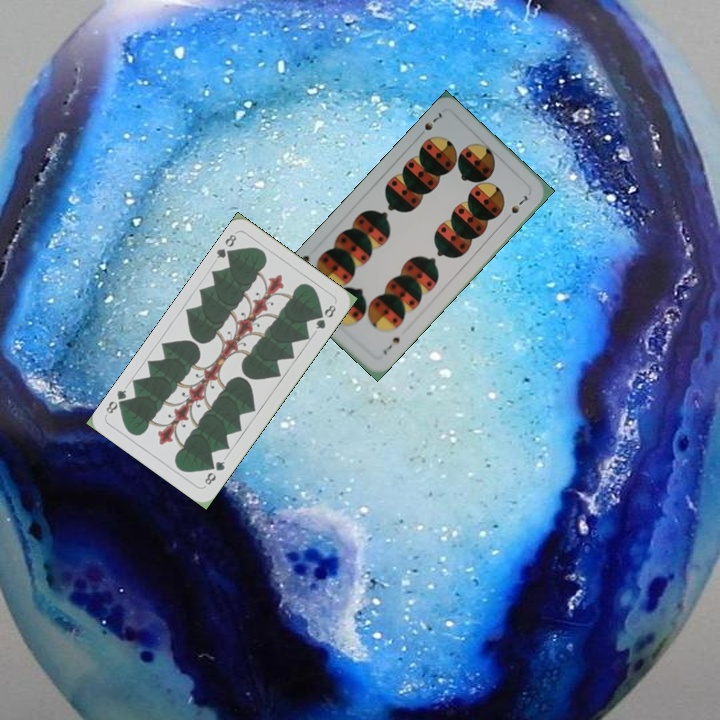G8: (200, 457, 228, 488), (212, 230, 239, 262)
S7: (420, 108, 445, 133), (379, 333, 403, 357)
